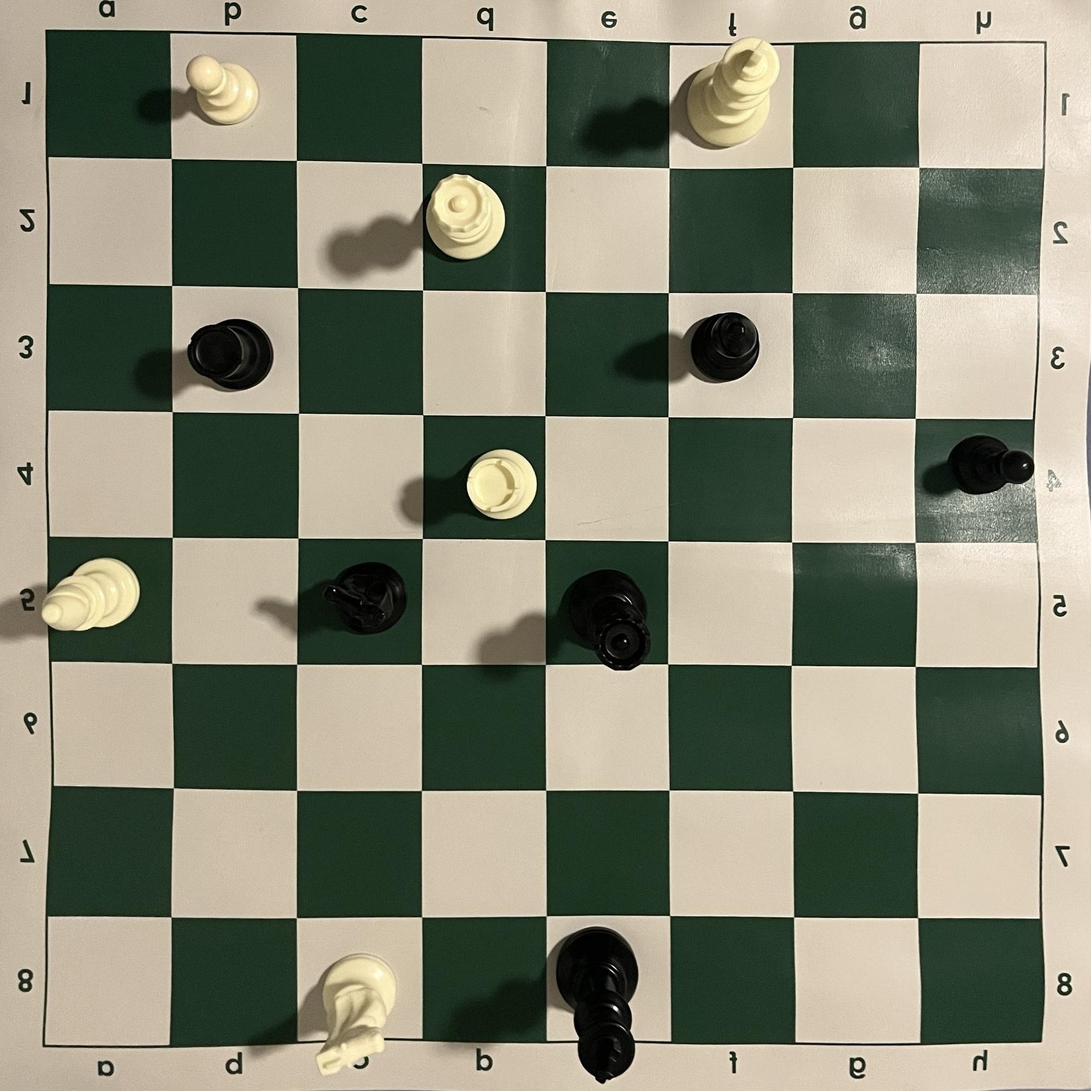black_bishop: (689, 311, 761, 385)
black_king: (556, 926, 639, 1084)
black_knight: (321, 561, 408, 637)
black_pawn: (948, 434, 1035, 497)
black_queen: (567, 568, 652, 672)
black_rook: (187, 318, 274, 391)
white_bishop: (41, 557, 141, 632)
white_king: (686, 37, 780, 148)
white_knight: (315, 952, 397, 1077)
white_pawn: (186, 54, 260, 126)
white_queen: (425, 173, 506, 260)
white_rook: (466, 449, 537, 521)
